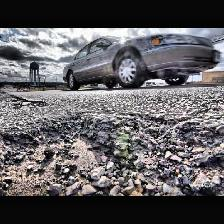pothole: (0, 109, 224, 195), (28, 100, 48, 108)
